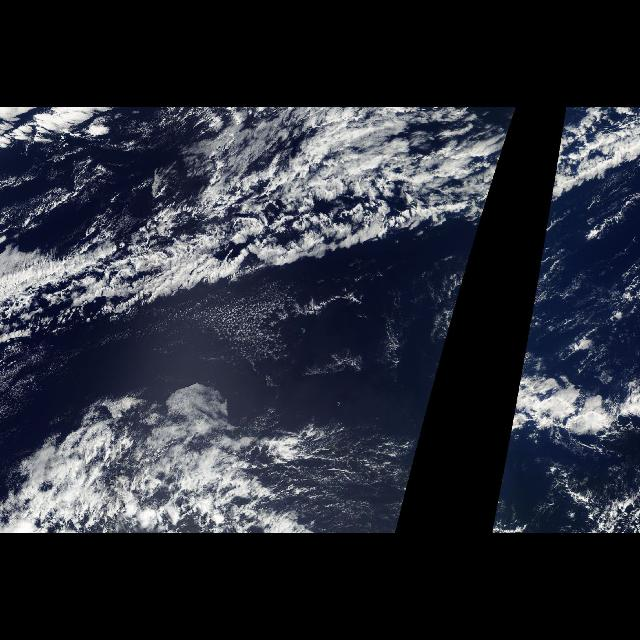Fish: (0, 125, 512, 379), (520, 125, 640, 379)
